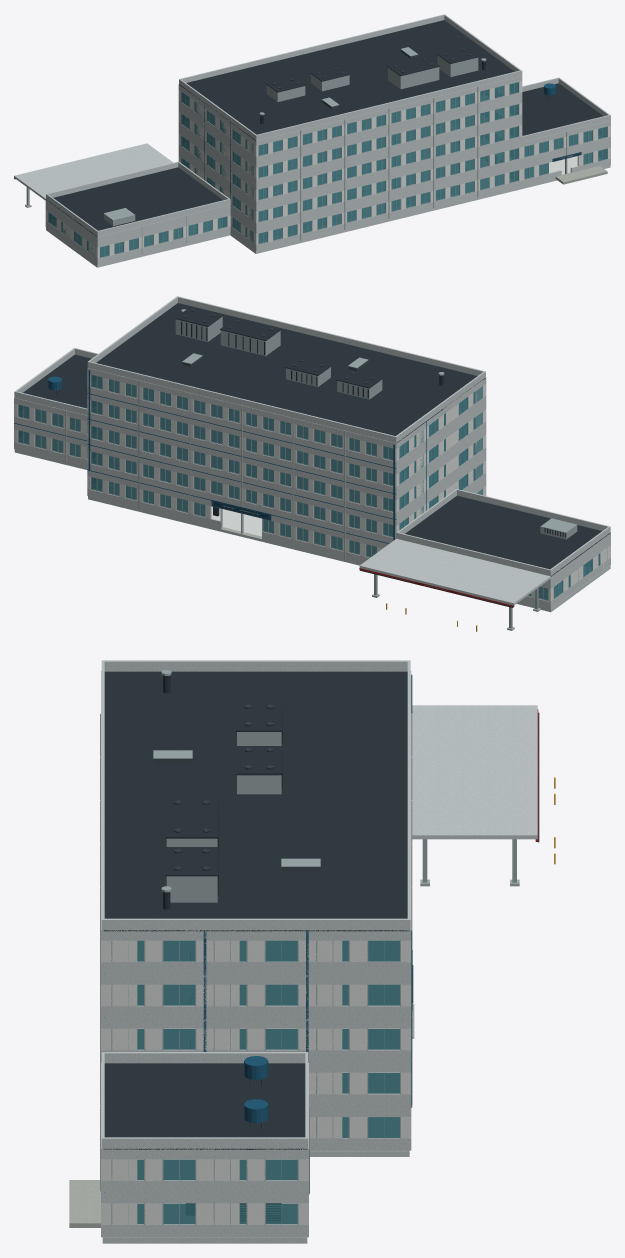
3 renders of one model, top to bottom at view 1: azimuth 30°, elevation 25°; view 2: azimuth 150°, elevation 25°; view 3: azimuth 270°, elevation 25°, orthographic. The views are drawn at different scales.
Parts seen in each view (by area): view 1: VIS_main_Roof_Membrane, VIS_main_Window_Glass, VIS_er_Roof_Membrane, VIS_ER_Canopy_Roof, VIS_service_Roof_Membrane, VIS_HVAC_Housing, VIS_main_Side_Window_Glass, VIS_main_Roof_Parapet_back, VIS_main_back_F4_Sill, VIS_main_back_F0_Sill, VIS_main_back_F1_Sill, VIS_main_back_F3_Sill (+51 smaller); view 2: VIS_main_Roof_Membrane, VIS_main_Window_Glass, VIS_er_Roof_Membrane, VIS_ER_Canopy_Roof, VIS_HVAC_Housing, VIS_main_Roof_Parapet_front, VIS_main_Side_Window_Glass, VIS_HVAC_Top_Rim, VIS_main_Roof_Parapet_back, VIS_main_front_F3_Sill, VIS_main_front_F4_Sill, VIS_main_front_F2_Sill (+50 smaller); view 3: VIS_main_Roof_Membrane, VIS_ER_Canopy_Roof, VIS_service_Roof_Membrane, VIS_main_Side_Window_Glass, VIS_HVAC_Top_Rim, VIS_main_east_F2_Pier, VIS_main_east_F3_Pier, VIS_main_east_F4_Sill, VIS_main_east_F3_Sill, VIS_main_east_F4_Pier, VIS_main_Roof_Parapet_right, VIS_main_Roof_Parapet_left (+30 smaller).
Part boxes in pixels (box(x1,y1,x2,y2)): VIS_main_Roof_Membrane: box(179, 20, 514, 140); VIS_main_Window_Glass: box(183, 82, 518, 243); VIS_er_Roof_Membrane: box(46, 167, 222, 236); VIS_ER_Canopy_Roof: box(14, 143, 173, 201); VIS_service_Roof_Membrane: box(522, 83, 603, 135); VIS_HVAC_Housing: box(266, 55, 478, 101); VIS_main_Side_Window_Glass: box(181, 91, 253, 242); VIS_main_Roof_Parapet_back: box(255, 70, 522, 140); VIS_main_back_F4_Sill: box(255, 92, 522, 162); VIS_main_back_F0_Sill: box(255, 180, 522, 250); VIS_main_back_F1_Sill: box(255, 158, 522, 228); VIS_main_back_F3_Sill: box(255, 114, 522, 184); VIS_main_Roof_Membrane: box(96, 303, 485, 442); VIS_main_Window_Glass: box(91, 375, 393, 557); VIS_er_Roof_Membrane: box(405, 495, 610, 576); VIS_ER_Canopy_Roof: box(359, 538, 550, 605); VIS_HVAC_Housing: box(175, 316, 382, 399); VIS_main_Roof_Parapet_front: box(87, 361, 396, 442); VIS_main_Side_Window_Glass: box(399, 386, 482, 529); VIS_HVAC_Top_Rim: box(175, 307, 383, 388); VIS_main_Roof_Parapet_back: box(176, 296, 485, 377); VIS_main_front_F3_Sill: box(87, 412, 396, 494); VIS_main_front_F4_Sill: box(87, 387, 396, 468); VIS_main_front_F2_Sill: box(87, 438, 396, 519); VIS_main_Roof_Membrane: box(104, 671, 409, 931); VIS_ER_Canopy_Roof: box(412, 705, 537, 839); VIS_service_Roof_Membrane: box(103, 1063, 307, 1149); VIS_main_Side_Window_Glass: box(137, 940, 399, 1137); VIS_HVAC_Top_Rim: box(165, 702, 282, 876); VIS_main_east_F2_Pier: box(102, 1028, 409, 1050); VIS_main_east_F3_Pier: box(102, 984, 409, 1006); VIS_main_east_F4_Sill: box(103, 961, 409, 974); VIS_main_east_F3_Sill: box(102, 1005, 409, 1018); VIS_main_east_F4_Pier: box(103, 940, 409, 961); VIS_main_Roof_Parapet_right: box(103, 918, 409, 930); VIS_main_Roof_Parapet_left: box(103, 660, 407, 671).
Bounding box in the file's own units: 88 × 22.19 × 38.
19 materials, 19 textured.
